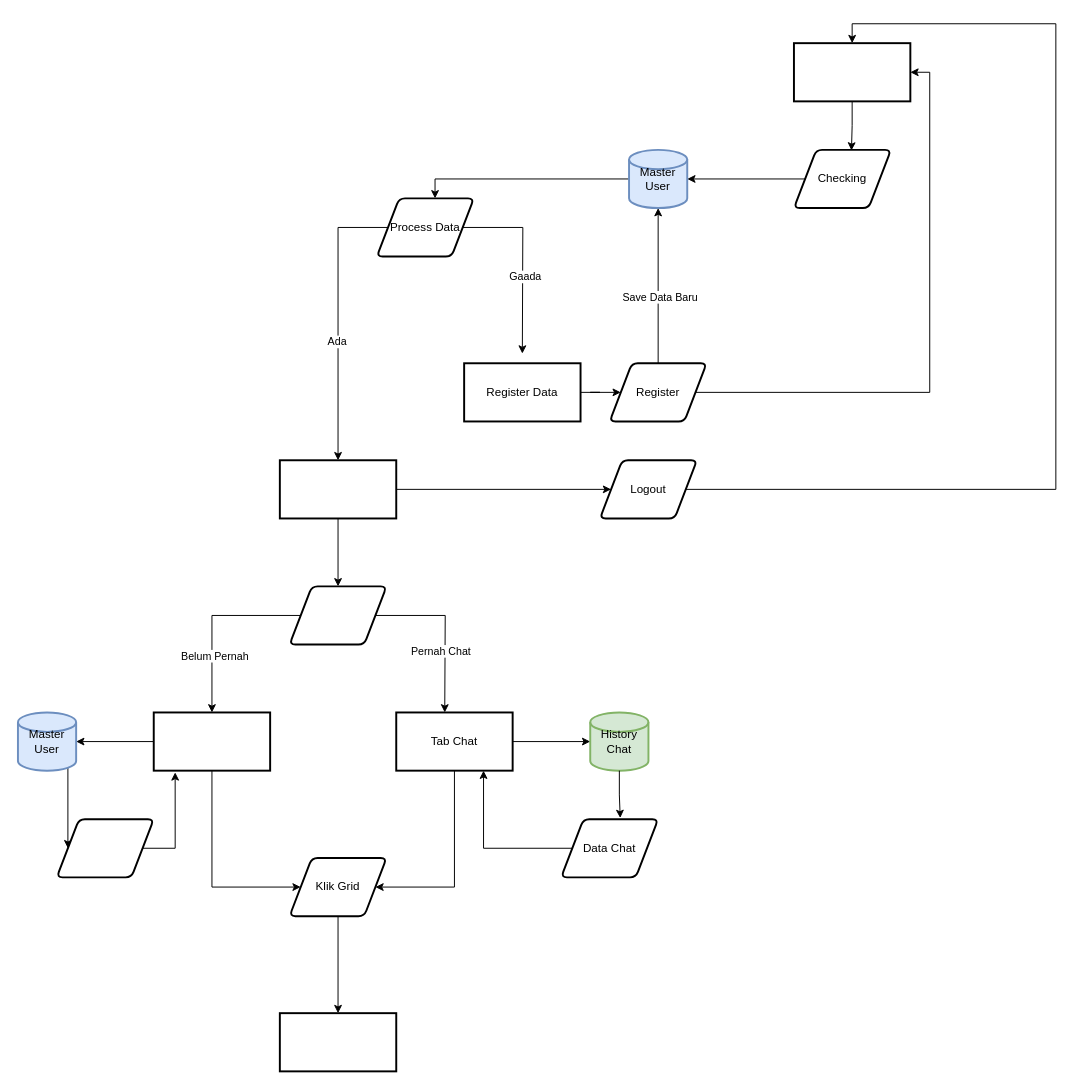
Some shapes in this 1081 by 1089 pixel diagram are drawn without their labels. The centre of each missing label's shape, as x and y in pixels:
Chat: the point at 337,615
Data User: the point at 104,848
Login: the point at 851,72
Main Menu: the point at 337,489
Menu Chat: the point at 337,1042
Tab Contact: the point at 211,741
